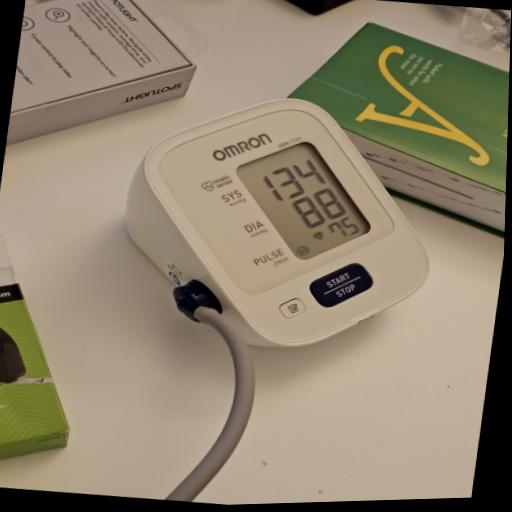blood pressure monitor: (105, 78, 457, 369)
